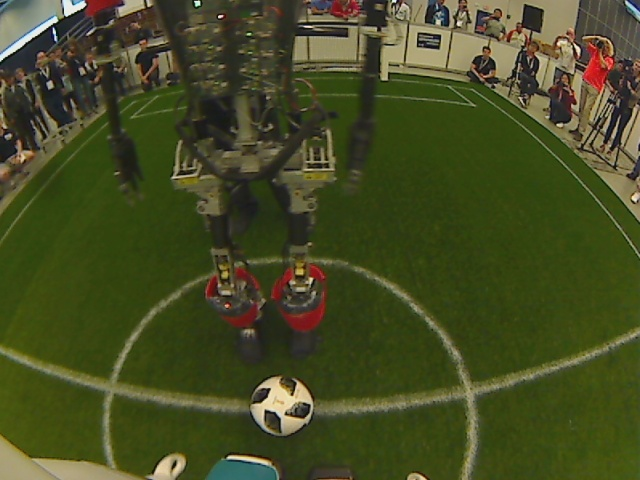ball: (248, 371, 318, 440)
